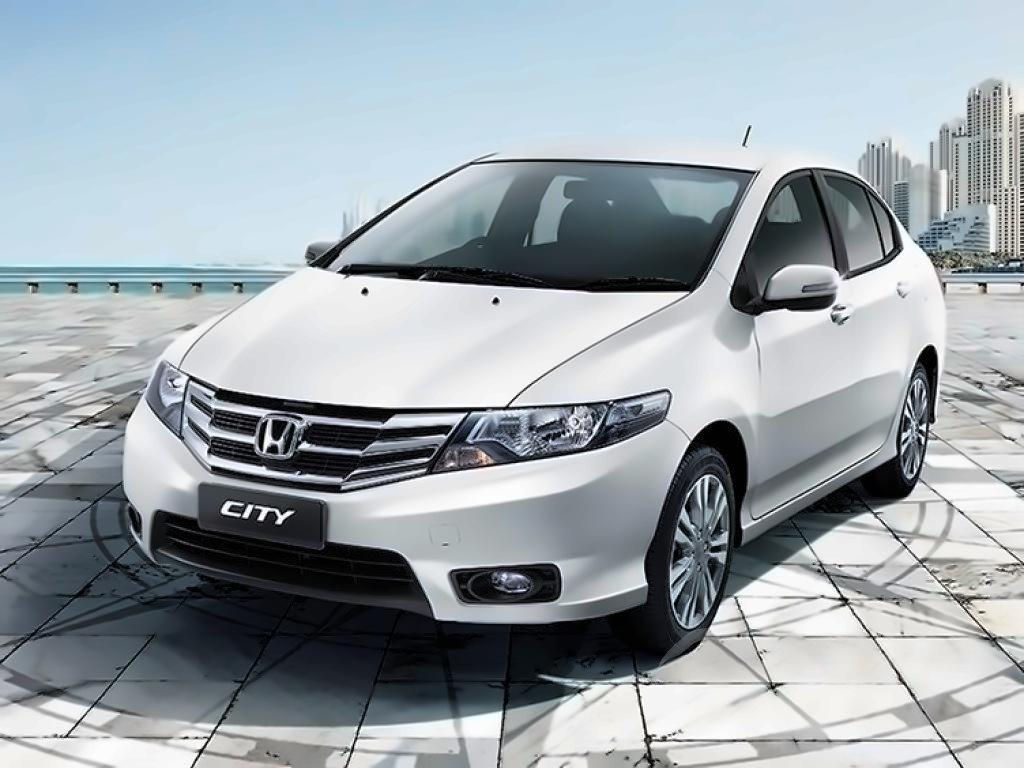Car hood: (176, 257, 694, 410)
Fender - -F-L-: (660, 264, 780, 556)
Front bumper: (116, 404, 696, 629)
Headlight - -L-: (423, 384, 682, 479)
Headlight - -R-: (134, 349, 200, 449)
Passenger-s door - -F-L-: (750, 156, 858, 527)
Passenger-s door - -R-L-: (824, 157, 927, 475)
Side bumper - -L-: (732, 423, 909, 553)
Side mirror - -L-: (747, 250, 846, 318)
Side mirror - -R-: (294, 230, 357, 273)
